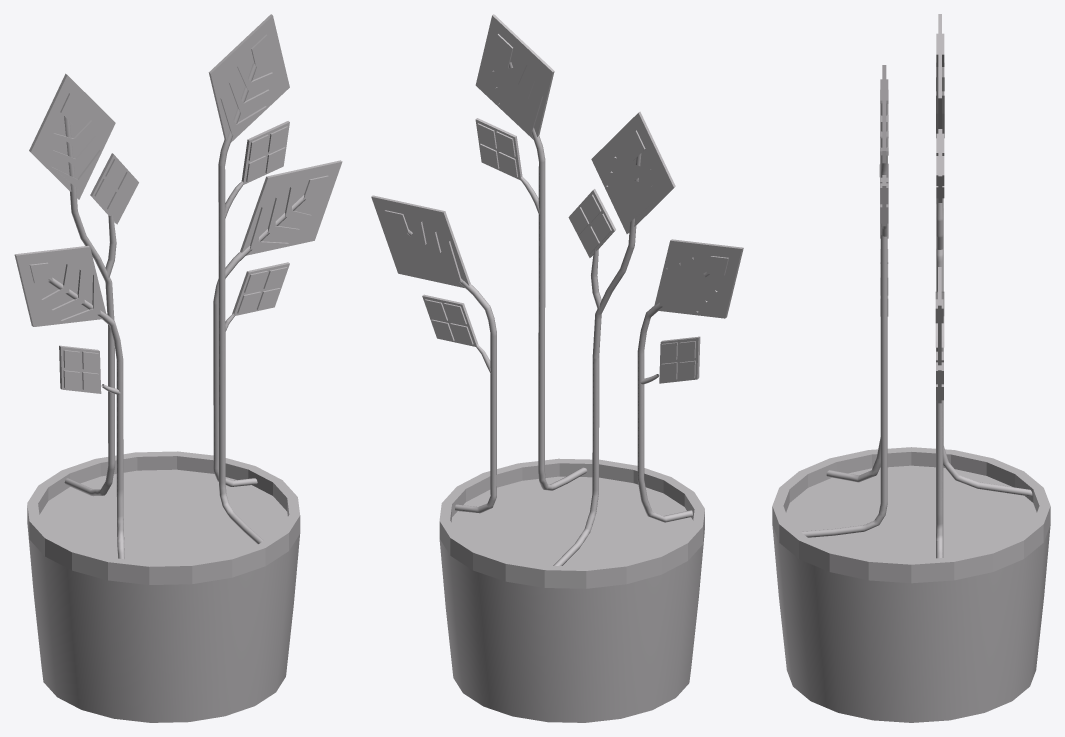
File: Modello3D_Ambient_Display.fbx
3 renders of one model, left to right at view 1: azimuth 30°, elevation 25°; view 2: azimuth 150°, elevation 25°; view 3: azimuth 270°, elevation 25°, orthographic. The views are drawn at different scales.
Parts seen in each view (by area): view 1: node_id19, node_id178, node_id17, node_id184, node_id24, node_id41, node_id56, node_id180, node_id15, node_id35, node_id22, node_id182 (+2 smaller); view 2: node_id19, node_id178, node_id17, node_id24, node_id184, node_id41, node_id56, node_id35, node_id180, node_id15, node_id182, node_id22 (+2 smaller); view 3: node_id19, node_id41, node_id35, node_id184, node_id53, node_id178, node_id17, node_id182, node_id56.
Boxes of the visible parts, x1,y1,x2,y2 form: node_id19: (27, 451, 300, 722); node_id178: (208, 14, 289, 142); node_id17: (240, 160, 342, 255); node_id184: (29, 73, 115, 199); node_id24: (14, 245, 106, 326); node_id41: (218, 63, 263, 544); node_id56: (48, 277, 124, 559); node_id180: (241, 121, 289, 184); node_id15: (232, 262, 289, 315); node_id35: (213, 195, 305, 486); node_id22: (59, 345, 101, 393); node_id182: (90, 153, 138, 224); node_id19: (439, 458, 704, 722); node_id178: (475, 14, 554, 139); node_id17: (371, 195, 470, 287); node_id24: (654, 239, 743, 318); node_id184: (591, 111, 675, 233); node_id41: (508, 62, 587, 490); node_id56: (637, 272, 709, 522); node_id35: (407, 229, 496, 513); node_id180: (475, 118, 522, 180); node_id15: (422, 294, 478, 346); node_id182: (568, 189, 615, 257); node_id22: (659, 336, 700, 383); node_id19: (772, 447, 1050, 722); node_id41: (801, 103, 887, 537); node_id35: (936, 347, 943, 558); node_id184: (936, 14, 944, 137); node_id53: (943, 348, 1032, 496); node_id178: (880, 65, 888, 163); node_id17: (935, 267, 944, 365); node_id182: (936, 129, 944, 202); node_id56: (826, 164, 880, 482).
Size of the model in its own units: 0.4439 by 0.7715 by 0.2984.
29 materials, 29 textured.
